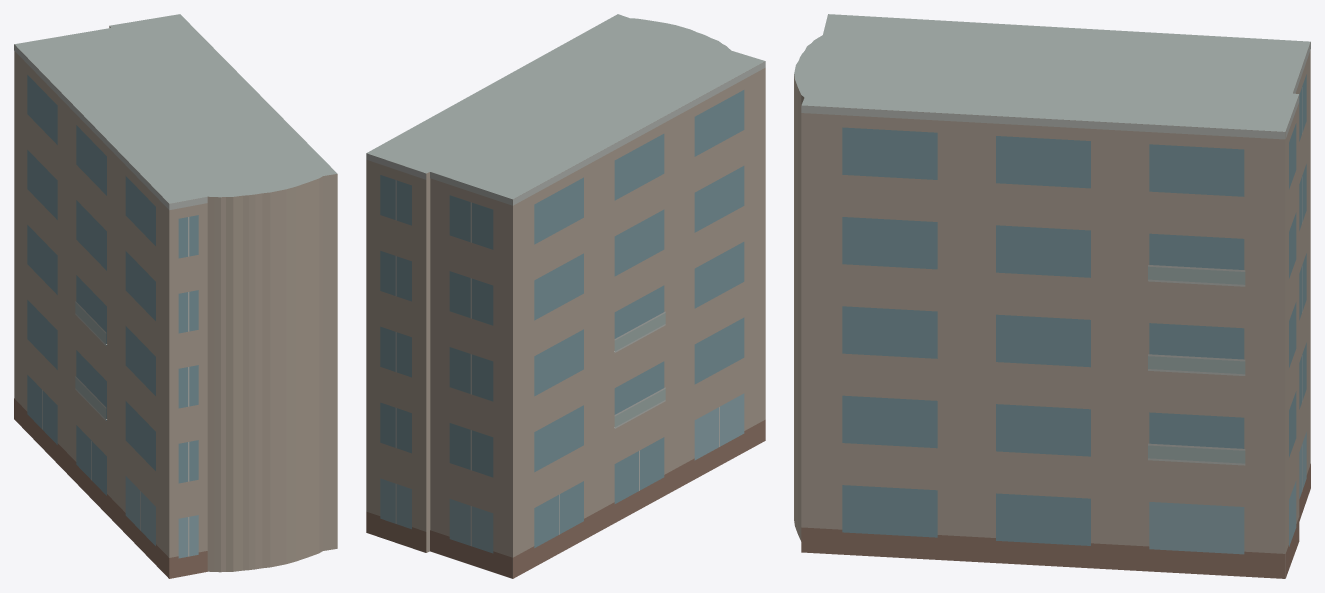
The model's file is survey-upis-32827305.glb.
3 views of the same model, side by side, from view 1: azimuth 30°, elevation 25°; view 2: azimuth 150°, elevation 25°; view 3: azimuth 270°, elevation 25° (orthographic). The views are drawn at different scales.
Visible parts, largest first — view 1: survey-upis-32827305.tmp; view 2: survey-upis-32827305.tmp; view 3: survey-upis-32827305.tmp.
Boxes of the visible parts, left/top/right/bottom form: survey-upis-32827305.tmp: left=14, top=14, right=337, bottom=578; survey-upis-32827305.tmp: left=366, top=14, right=765, bottom=578; survey-upis-32827305.tmp: left=794, top=14, right=1310, bottom=578.
Bounding box in the file's own units: 8.16 × 14.4 × 15.09.
